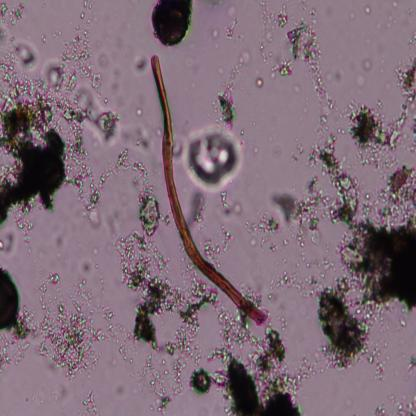Background material: (0, 37, 87, 226), (212, 310, 309, 416), (110, 223, 179, 348), (36, 270, 109, 385), (312, 278, 388, 382), (339, 221, 416, 311), (166, 284, 223, 386), (290, 0, 338, 120), (171, 121, 254, 186), (308, 142, 364, 232), (336, 96, 408, 164), (270, 172, 328, 246), (361, 154, 416, 222), (205, 50, 252, 128), (53, 13, 94, 88), (128, 346, 174, 412), (66, 165, 112, 228), (255, 0, 293, 61), (79, 88, 119, 143), (111, 143, 154, 194), (0, 311, 35, 368), (262, 270, 328, 299), (239, 204, 278, 252), (0, 266, 27, 330), (138, 182, 166, 240), (395, 44, 416, 116), (203, 222, 236, 264), (288, 357, 316, 391), (119, 123, 154, 150), (0, 0, 25, 37), (13, 215, 34, 258), (294, 251, 336, 272), (187, 189, 209, 226), (217, 192, 246, 220), (389, 387, 416, 415), (104, 203, 126, 234), (220, 12, 241, 42), (80, 387, 100, 416), (321, 63, 345, 86), (0, 230, 18, 258), (277, 58, 297, 78), (132, 54, 151, 75), (88, 70, 103, 96), (407, 113, 416, 154), (312, 118, 328, 139), (76, 256, 92, 274), (291, 136, 302, 162), (271, 139, 283, 160), (406, 348, 416, 372), (277, 311, 289, 329), (362, 56, 373, 71), (386, 12, 395, 30), (373, 404, 386, 416), (254, 74, 265, 88), (268, 63, 277, 80), (56, 234, 66, 249), (93, 243, 105, 255), (228, 2, 236, 17), (346, 8, 356, 20), (356, 75, 366, 87), (409, 29, 416, 45), (39, 32, 49, 43), (364, 3, 373, 15), (399, 317, 408, 328), (377, 65, 385, 75), (79, 10, 85, 22), (85, 0, 92, 10), (392, 0, 400, 8), (135, 110, 144, 117), (386, 82, 392, 92), (282, 238, 290, 245), (213, 27, 218, 38), (240, 128, 245, 135), (94, 264, 99, 270)
Diatom: (148, 0, 196, 50), (189, 366, 213, 394)
Microfibre: (149, 55, 267, 327)
